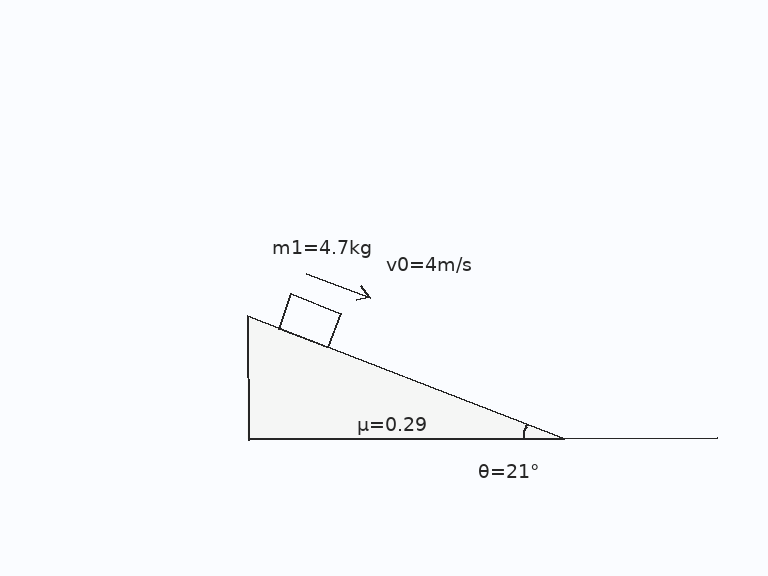block: (277, 292, 342, 349)
ramp: (246, 315, 566, 440)
